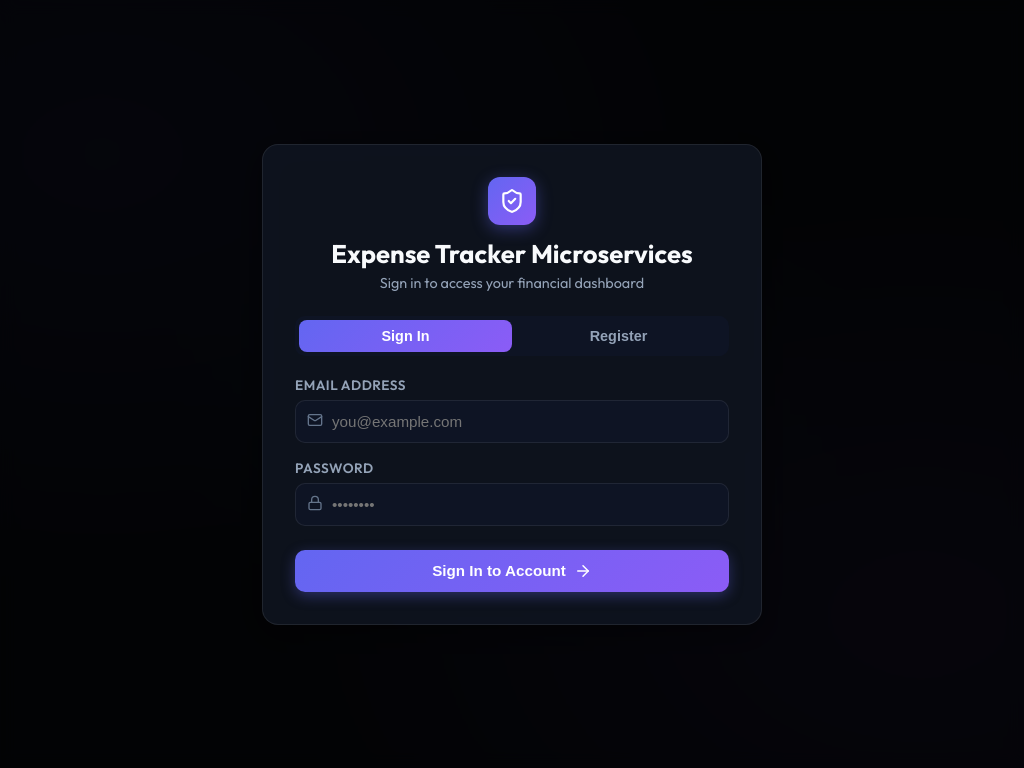
Test: AuthModal Component › switches to Register tab when Register button is clicked
The width and height of the screenshot is (1024, 768).
Step 1. Click the button "Register" → [618, 336], box [512,320,725,352]
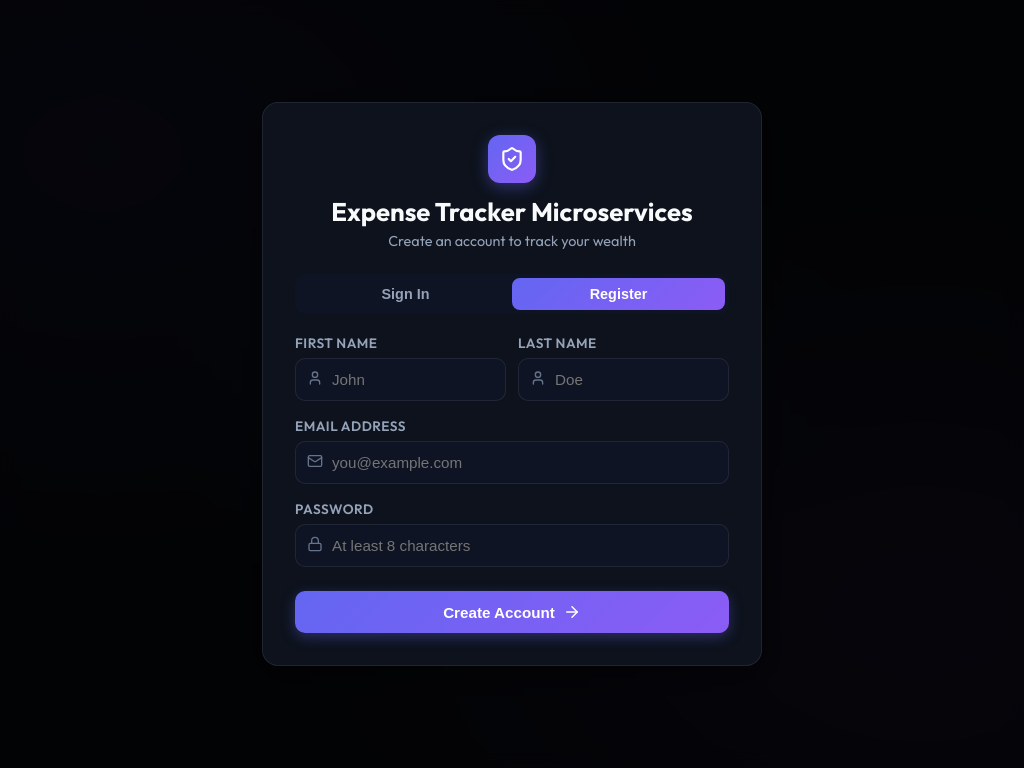
Expected: the field with placeholder "John" is shown, [295,358,506,401]
Expected: the field with placeholder "Doe" is shown, [518,358,729,401]
Expected: the button "Create Account" is shown, [295,591,729,633]
